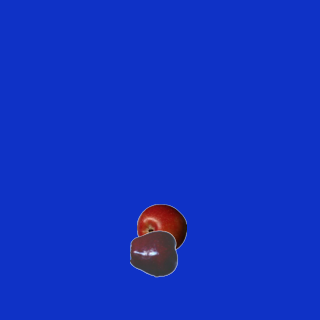Apple Braeburn: (136, 203, 186, 253)
Apple Red Delicious: (129, 228, 179, 278)
